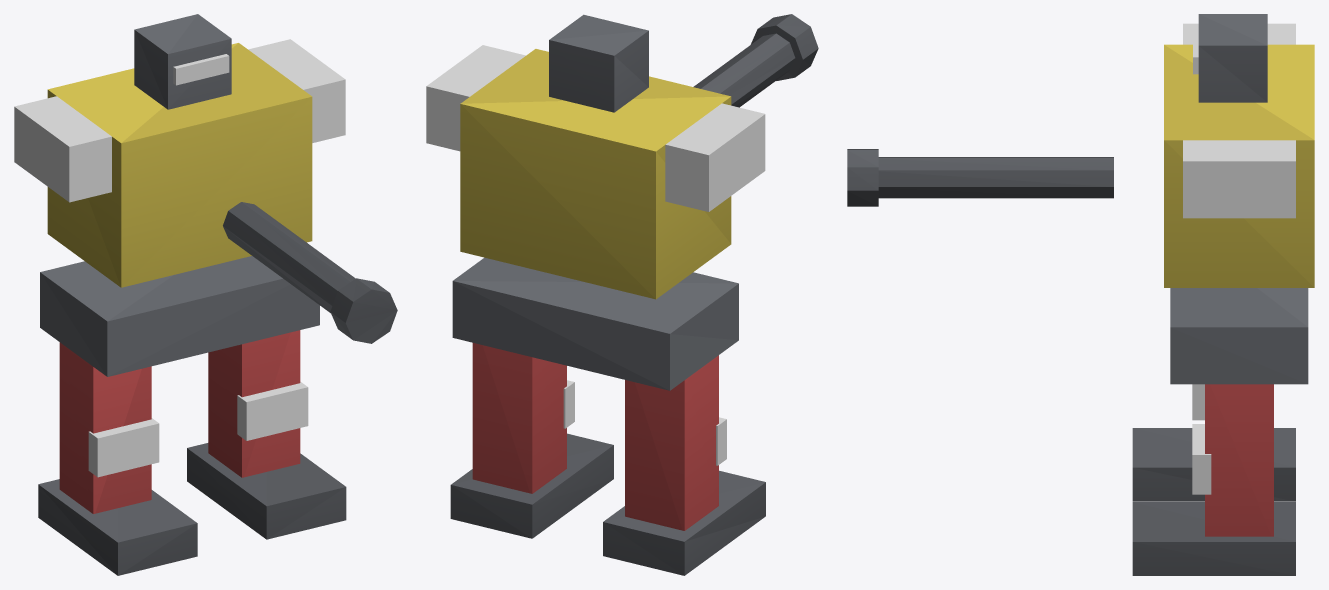
Rendered from Giant Death Robot.glb.
3 renders of one model, left to right at view 1: azimuth 30°, elevation 25°; view 2: azimuth 150°, elevation 25°; view 3: azimuth 270°, elevation 25°, orthographic. The views are drawn at different scales.
Parts seen in each view (by area): view 1: Body, Part1, Part2; view 2: Body, Part1, Part2; view 3: Body, Part1, Part2.
Part boxes in pixels (x1,y1,x2,y2): Body: [38, 256, 346, 575]; Part1: [14, 14, 345, 287]; Part2: [223, 202, 397, 343]; Body: [450, 257, 765, 575]; Part1: [426, 14, 765, 299]; Part2: [693, 14, 818, 107]; Body: [1132, 288, 1308, 575]; Part1: [1164, 14, 1314, 287]; Part2: [847, 149, 1113, 206].
Bounding box in the file's own units: 0.52 × 0.86 × 0.745.
